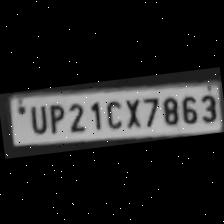1: (84, 96, 104, 130)
2: (61, 96, 88, 132)
3: (194, 88, 218, 123)
6: (176, 90, 200, 124)
7: (138, 93, 160, 128)
8: (158, 92, 180, 126)
C: (99, 95, 123, 129)
P: (42, 99, 66, 133)
U: (23, 100, 49, 134)
X: (120, 94, 142, 129)
